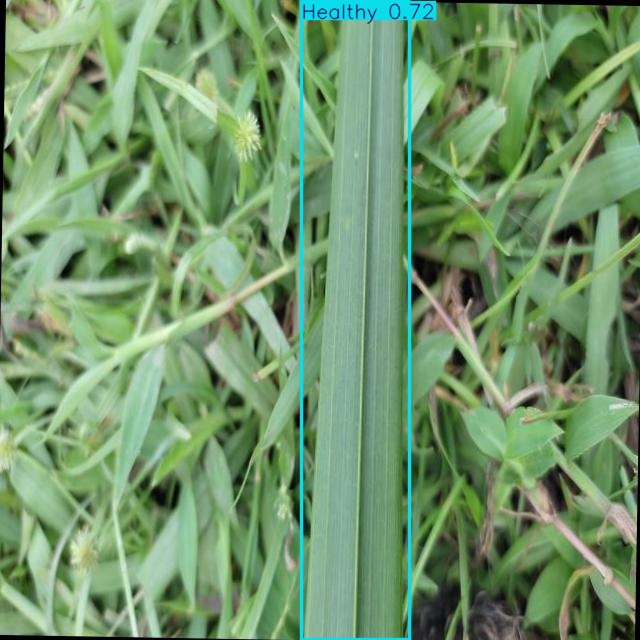Healthy: (302, 2, 409, 639)
